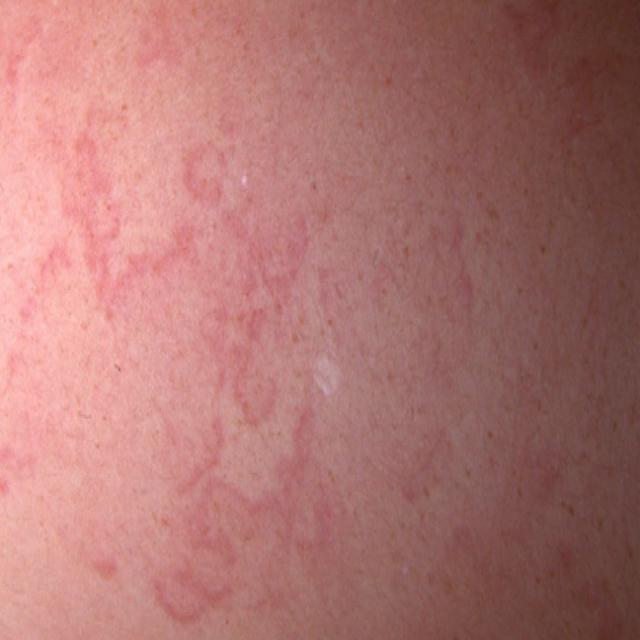Erythema marginatum: (49, 103, 408, 606)
